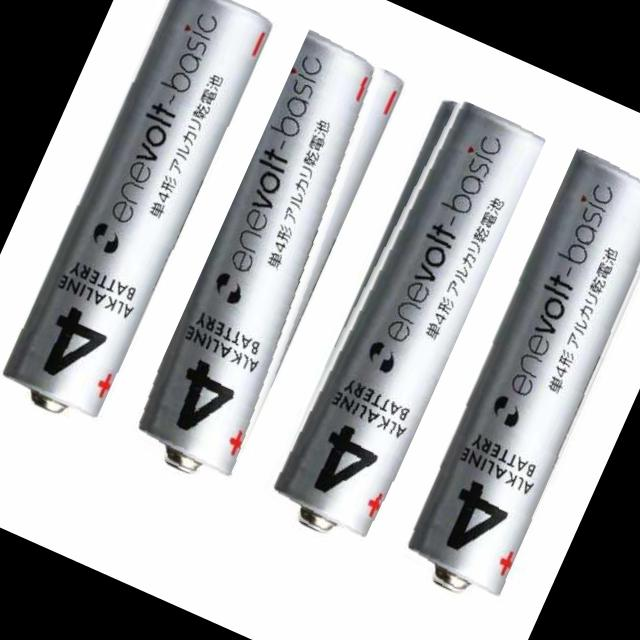Hazard: (122, 28, 418, 495), (255, 89, 546, 553), (0, 0, 281, 436), (389, 146, 640, 613)
